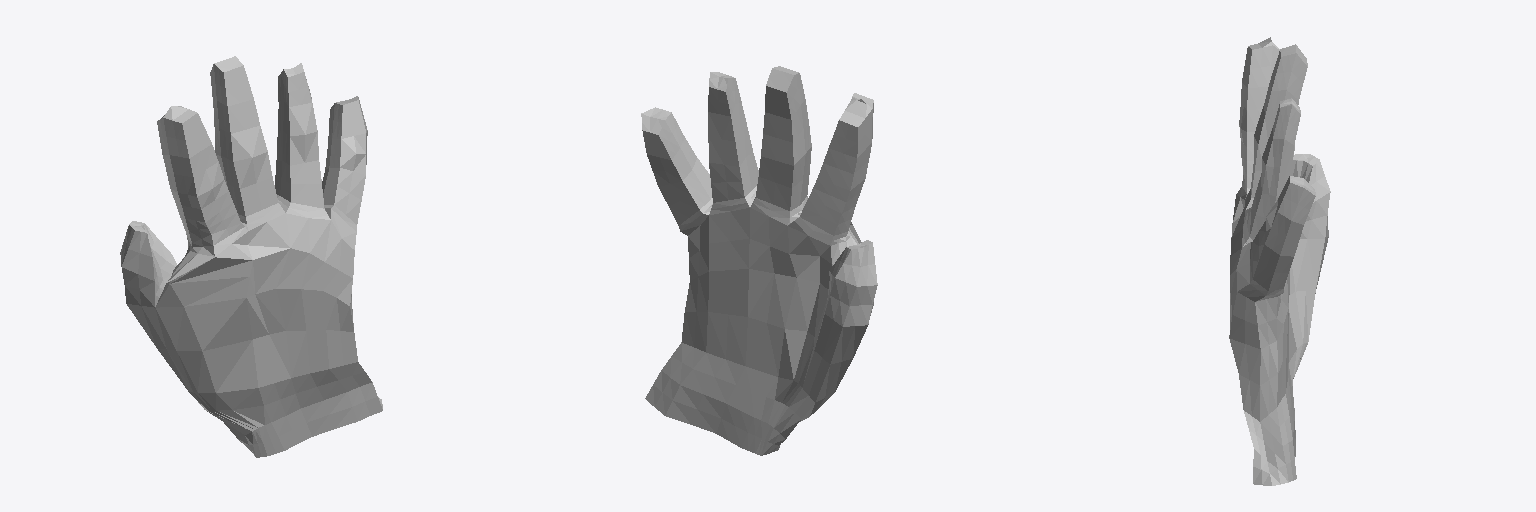
Rendered from grip0006.obj.
3 views of the same model, side by side, from view 1: azimuth 30°, elevation 25°; view 2: azimuth 150°, elevation 25°; view 3: azimuth 270°, elevation 25° (orthographic).
Parts seen in each view (by area): view 1: Hand; view 2: Hand; view 3: Hand.
Part boxes in pixels (bbox=[...]): Hand: bbox=[120, 56, 382, 457]; Hand: bbox=[641, 66, 877, 455]; Hand: bbox=[1229, 37, 1330, 485].
Bounding box in the file's own units: 3.21 × 4.94 × 1.15.